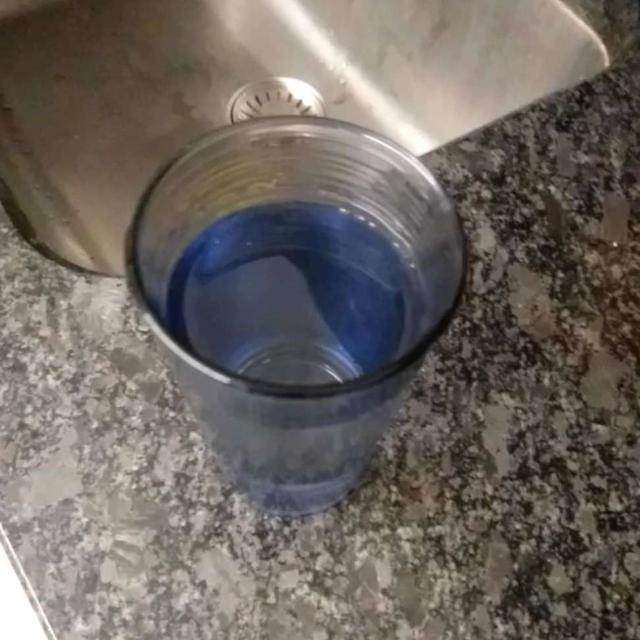water: (161, 176, 407, 517)
